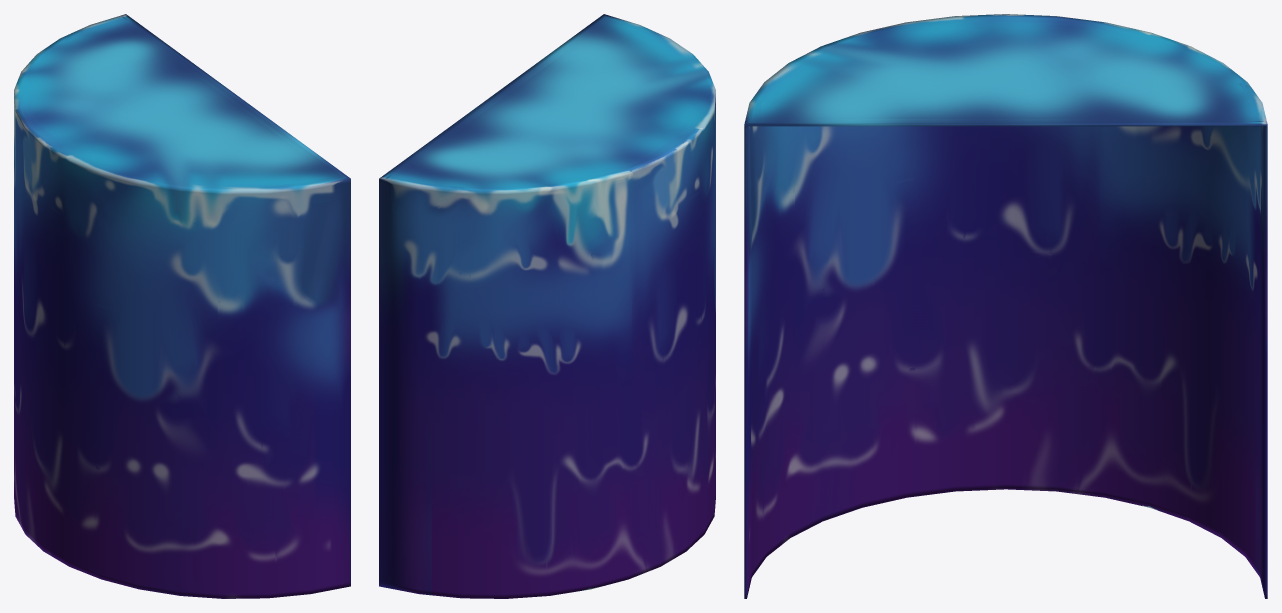
File: CMPM35Water.obj
The picture shows the model from 3 angles, left to right: view 1: azimuth 30°, elevation 25°; view 2: azimuth 150°, elevation 25°; view 3: azimuth 270°, elevation 25°; orthographic projection. The views are drawn at different scales.
Visible parts, largest first — view 1: LowPoly_Cylinder.001; view 2: LowPoly_Cylinder.001; view 3: LowPoly_Cylinder.001.
Boxes of the visible parts, x1,y1,x2,y2 form: LowPoly_Cylinder.001: (14,14,350,598); LowPoly_Cylinder.001: (379,14,715,598); LowPoly_Cylinder.001: (744,14,1267,598).
Size of the model in its own units: 1 by 2 by 2.
Materials: 1 (1 with a texture image).
